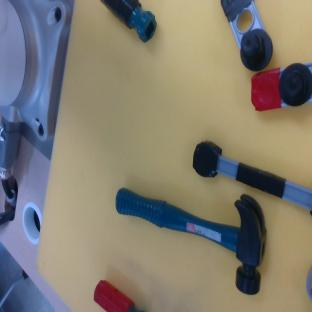part_2_good: (87, 278, 146, 312)
part_3_good: (306, 266, 312, 300)
